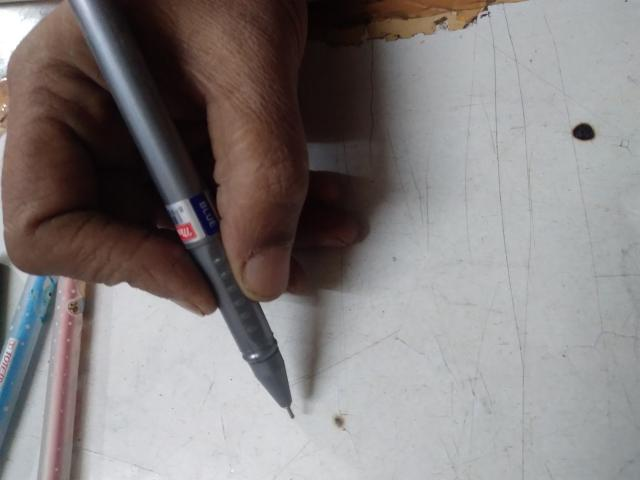PEN: (80, 2, 295, 422), (0, 277, 103, 480)
